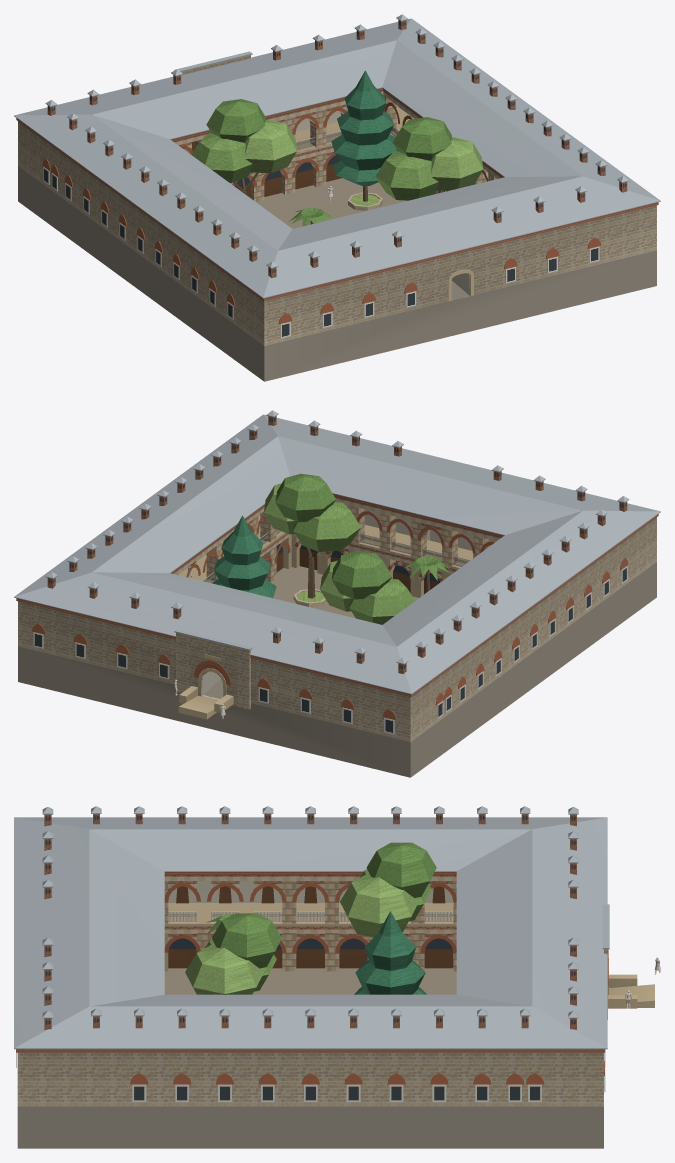
Rendered from emir-hani_v03.glb.
3 views of the same model, one above another, from view 1: azimuth 30°, elevation 25°; view 2: azimuth 150°, elevation 25°; view 3: azimuth 270°, elevation 25° (orthographic). The views are drawn at different scales.
Parts seen in each view (by area): view 1: Emir_Hani, Avlu_Revaklari, Cevre_Agac_02, Cevre_Agac_01, Dis_Cephe, Cevre_Agac_03, Bacalar, Han_Avlu, Girisler; view 2: Emir_Hani, Avlu_Revaklari, Dis_Cephe, Cevre_Agac_02, Bacalar, Girisler, Cevre_Agac_01, Cevre_Agac_03, Han_Avlu, Cevre_Agac_04; view 3: Emir_Hani, Avlu_Revaklari, Dis_Cephe, Bacalar, Cevre_Agac_01, Cevre_Agac_02, Han_Avlu, Cevre_Agac_03, Girisler.
Boxes of the visible parts, left/top/right/bottom form: Emir_Hani: left=14, top=18, right=660, bottom=381; Avlu_Revaklari: left=171, top=88, right=503, bottom=201; Cevre_Agac_02: left=375, top=117, right=483, bottom=200; Cevre_Agac_01: left=191, top=99, right=296, bottom=195; Dis_Cephe: left=16, top=118, right=658, bottom=338; Cevre_Agac_03: left=331, top=70, right=397, bottom=210; Bacalar: left=45, top=14, right=629, bottom=278; Han_Avlu: left=256, top=178, right=407, bottom=228; Girisler: left=174, top=51, right=473, bottom=301; Emir_Hani: left=14, top=414, right=660, bottom=777; Avlu_Revaklari: left=171, top=494, right=503, bottom=597; Dis_Cephe: left=16, top=514, right=658, bottom=734; Cevre_Agac_02: left=264, top=473, right=361, bottom=607; Bacalar: left=45, top=410, right=629, bottom=674; Girisler: left=174, top=629, right=252, bottom=719; Cevre_Agac_01: left=320, top=551, right=414, bottom=624; Cevre_Agac_03: left=212, top=515, right=276, bottom=598; Han_Avlu: left=270, top=566, right=418, bottom=618; Cevre_Agac_04: left=404, top=556, right=450, bottom=591; Emir_Hani: left=14, top=817, right=607, bottom=1148; Avlu_Revaklari: left=164, top=872, right=456, bottom=971; Dis_Cephe: left=16, top=1049, right=605, bottom=1101; Bacalar: left=42, top=806, right=578, bottom=1029; Cevre_Agac_01: left=340, top=842, right=436, bottom=937; Cevre_Agac_02: left=185, top=913, right=281, bottom=994; Han_Avlu: left=164, top=953, right=456, bottom=994; Cevre_Agac_03: left=354, top=911, right=426, bottom=994; Girisler: left=602, top=904, right=654, bottom=1019.
Bounding box in the file's own units: 46.6 × 15.01 × 55.16.
Materials: 22 (9 with a texture image).
